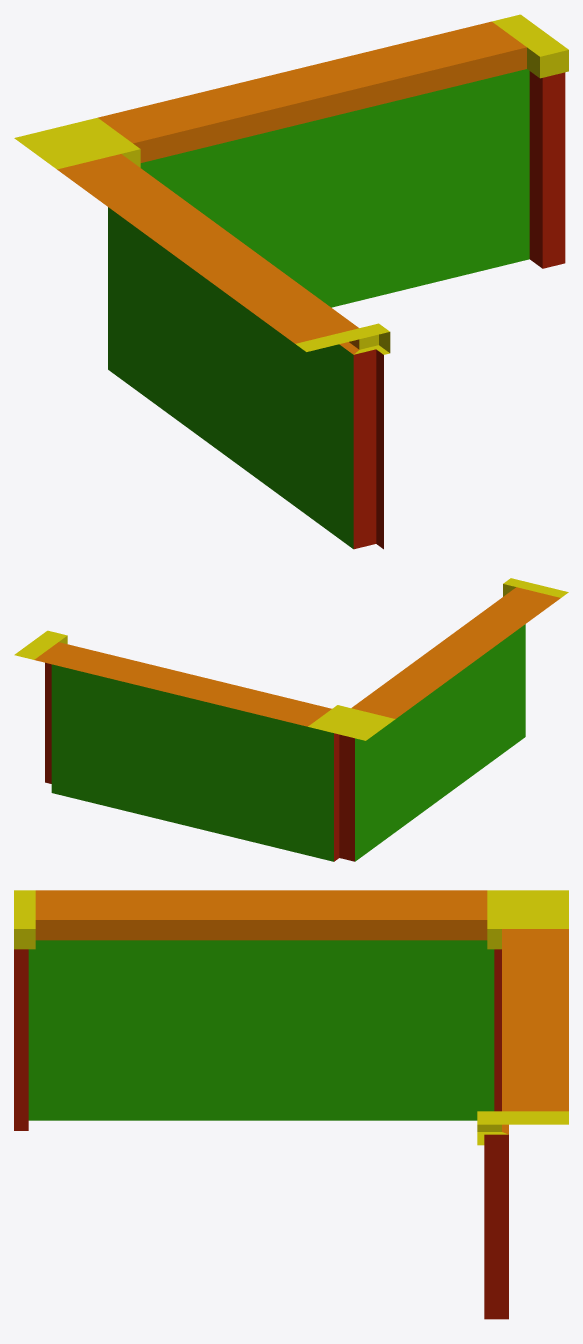
Rendered from mur_angle.fbx.
3 views of the same model, one above another, from view 1: azimuth 30°, elevation 25°; view 2: azimuth 150°, elevation 25°; view 3: azimuth 270°, elevation 25° (orthographic). The views are drawn at different scales.
Visible parts, largest first — view 1: wall_angle; view 2: wall_angle; view 3: wall_angle.
Part boxes in pixels (x1,y1,x2,y2): wall_angle: [14, 14, 568, 549]; wall_angle: [14, 578, 568, 861]; wall_angle: [14, 890, 568, 1319].
Bounding box in the file's own units: 1850 × 754 × 1850.
